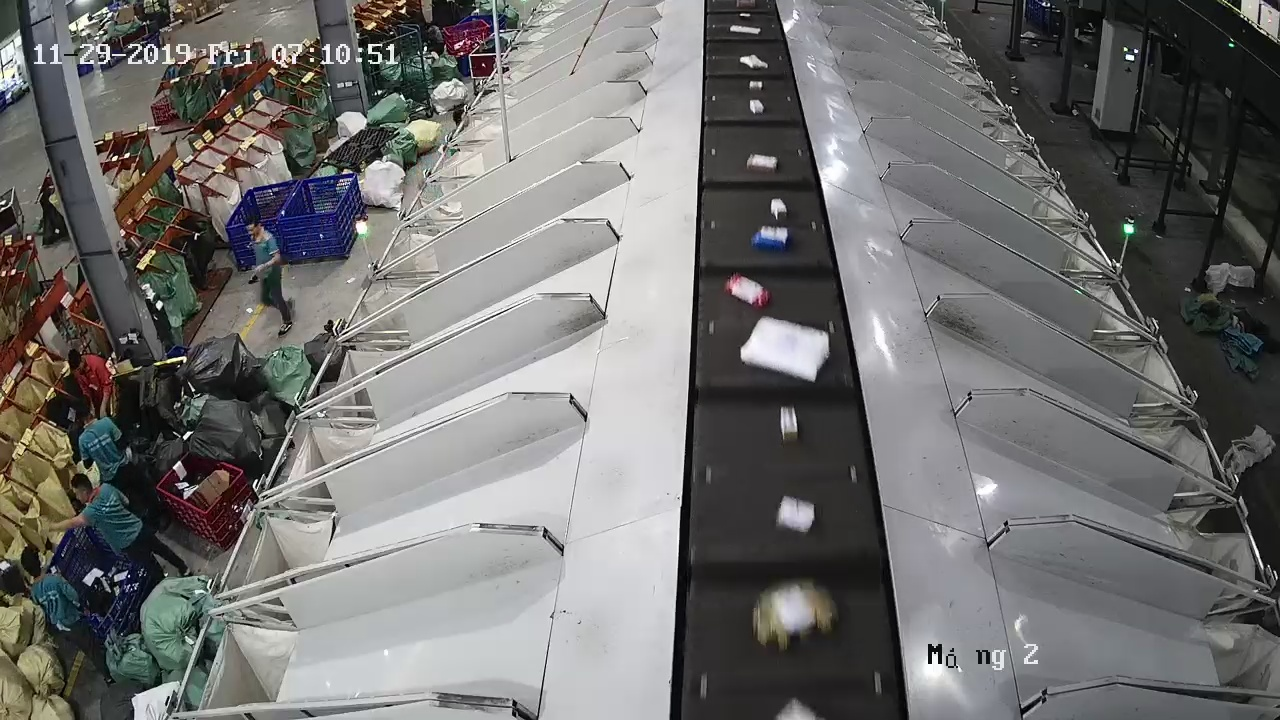parcel: (752, 576, 839, 654), (739, 315, 831, 383), (725, 272, 772, 310), (775, 494, 815, 536), (751, 224, 793, 253), (779, 404, 799, 443), (746, 153, 779, 174), (770, 197, 788, 219)
